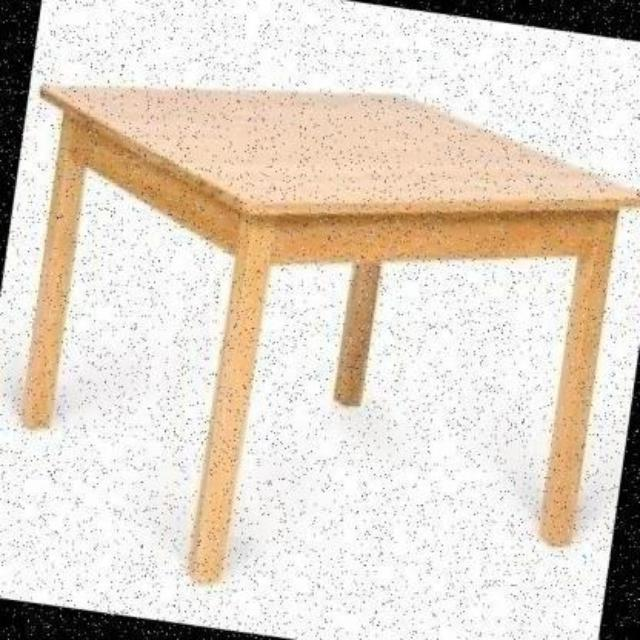table: (25, 75, 633, 585)
